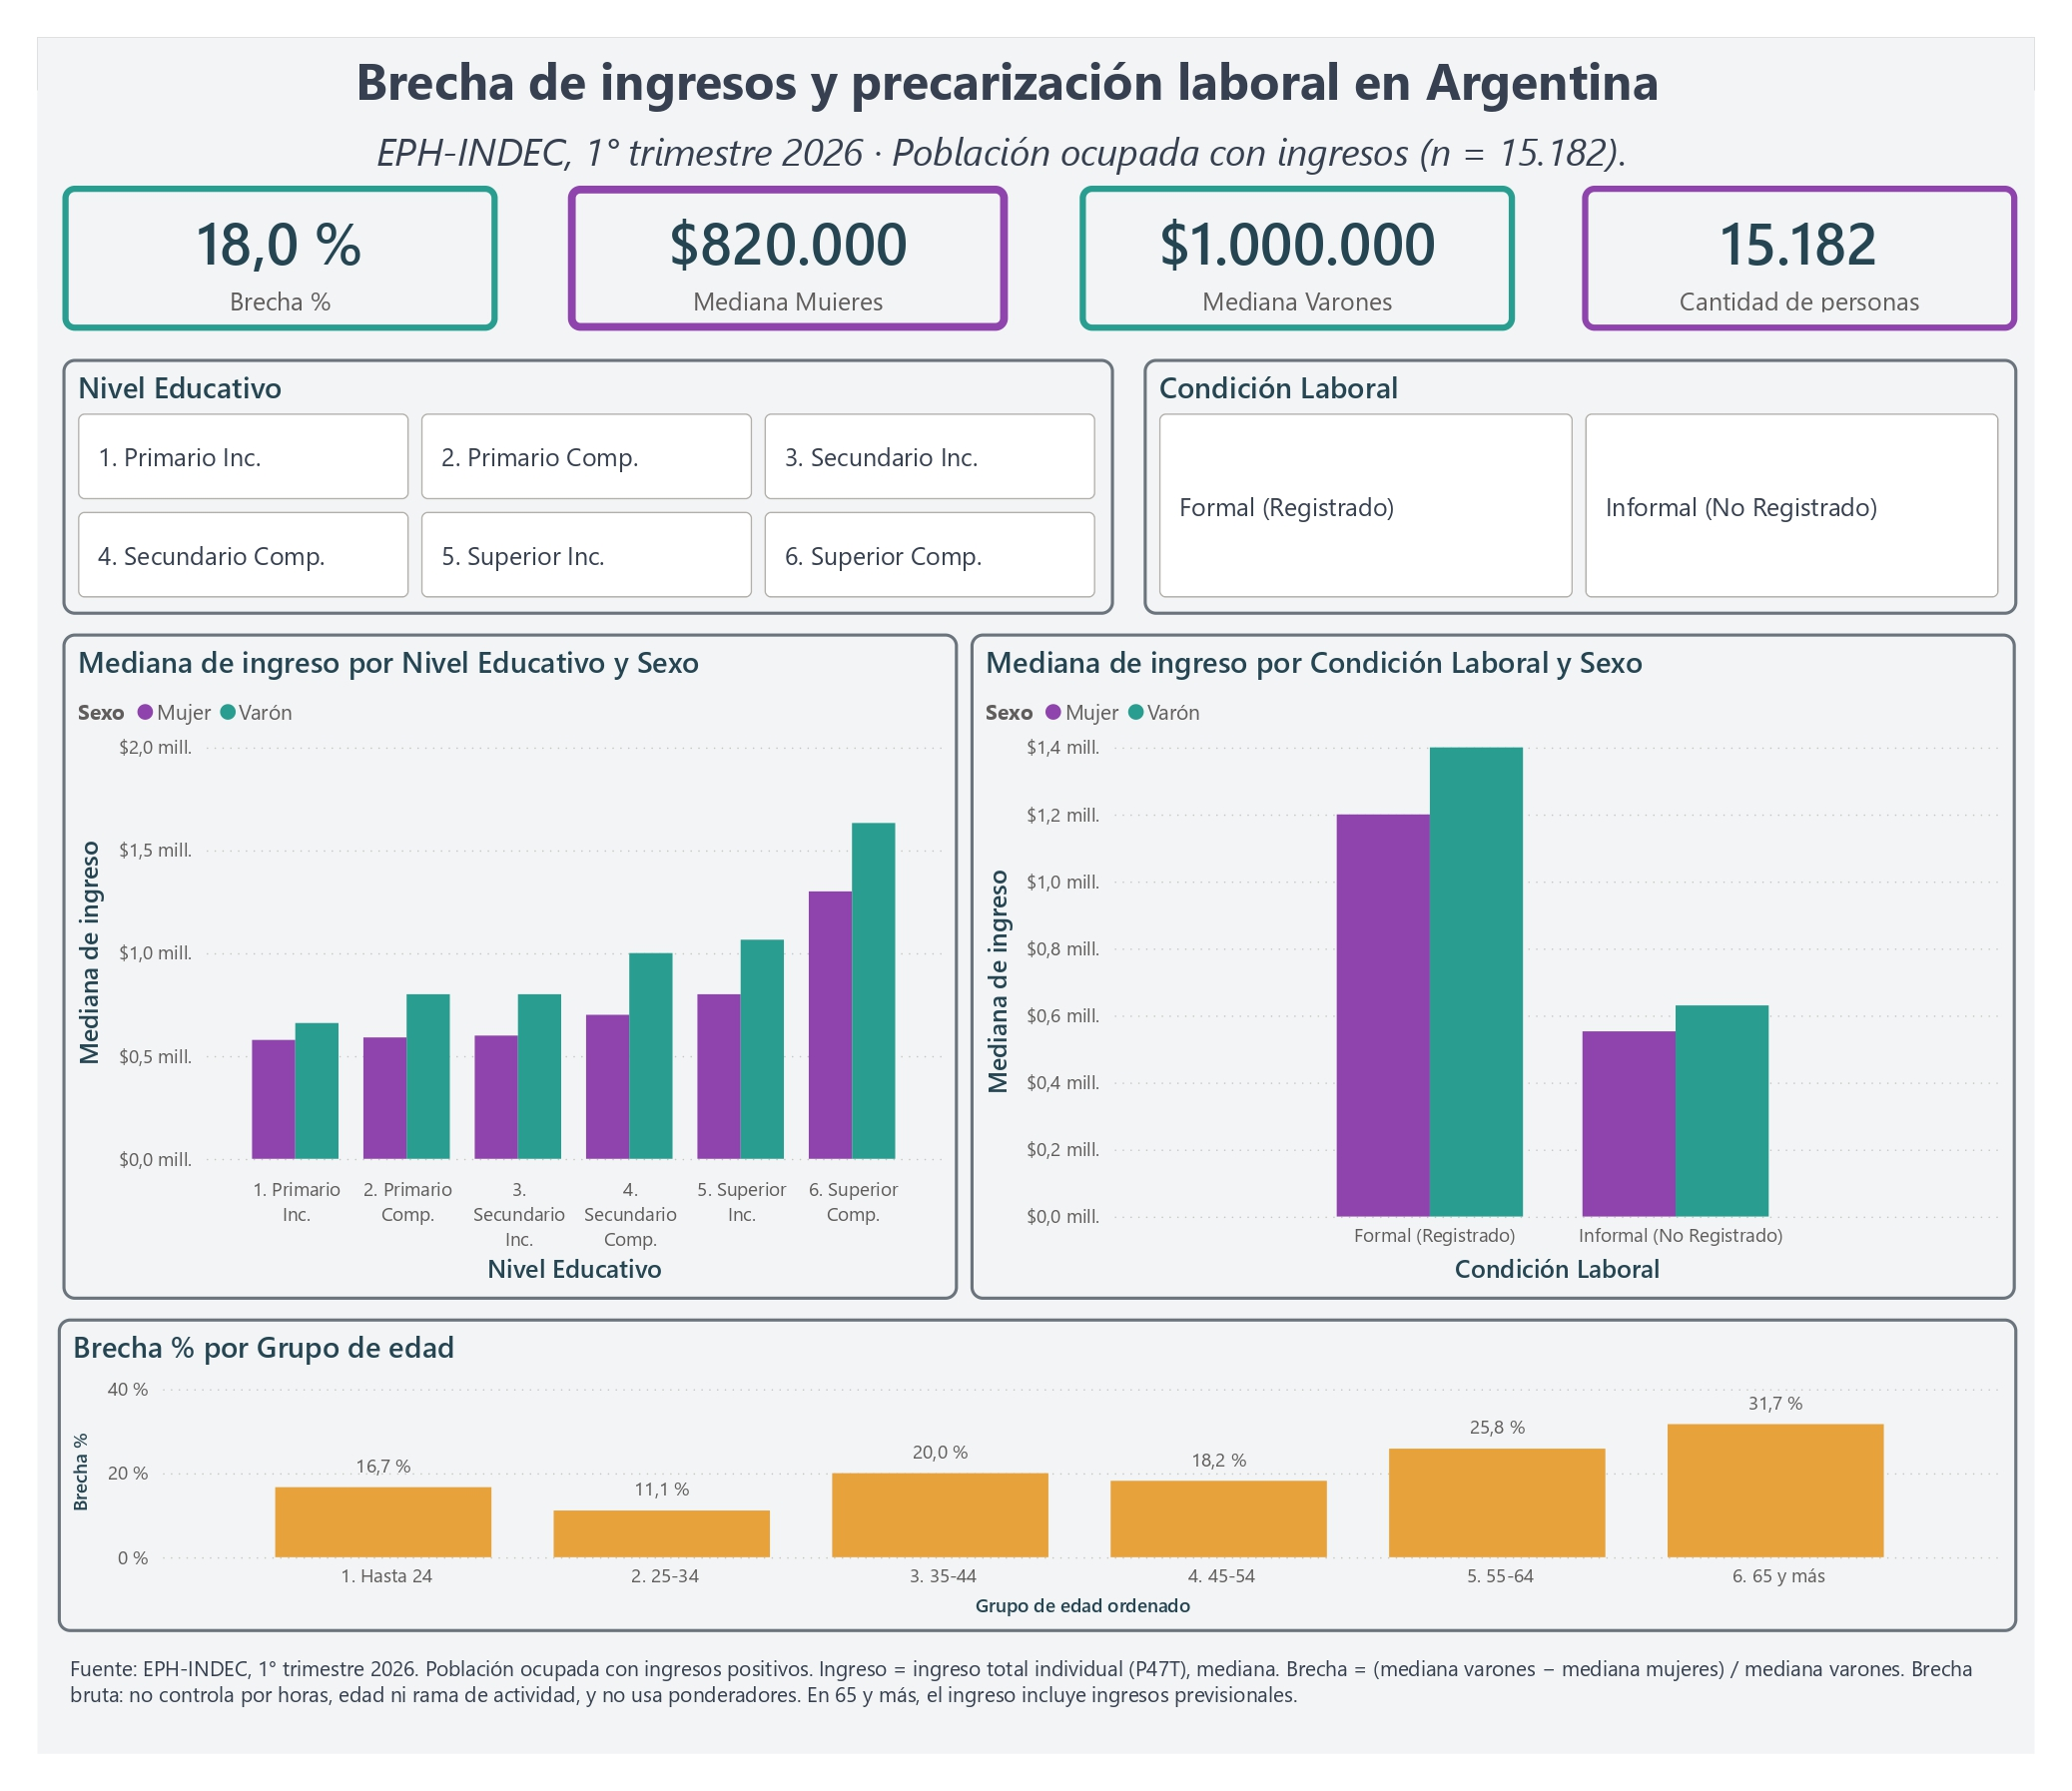

The dashboard page shown, as its layout file describes it:
{"tool":"powerbi","page":{"name":"Página 1","canvas":[1280,1100],"ordinal":0},"visuals":[{"type":"card","fields":{"Values":["EPH.Brecha %"]},"box":[15.6,94.8,279.2,93.5],"z":0},{"type":"card","fields":{"Values":["EPH.Mediana Mujeres"]},"box":[340.3,94.8,281.8,93.5],"z":1000},{"type":"card","fields":{"Values":["EPH.Mediana Varones"]},"box":[667.5,94.8,279.2,93.5],"z":2000},{"type":"card","fields":{"Values":["EPH.Cantidad de personas"]},"box":[989.6,94.8,279.2,93.5],"z":3000},{"type":"textbox","box":[187,0,868.8,64.9],"z":4000},{"type":"textbox","box":[211.7,50.6,855.8,53.2],"z":5000},{"type":"clusteredColumnChart","fields":{"Category":["EPH.Nivel Educativo"],"Y":["EPH.Mediana de ingreso"],"Series":["EPH.Sexo"]},"box":[15.6,381.8,574,427.3],"z":6000},{"type":"clusteredColumnChart","fields":{"Category":["EPH.Condición Laboral"],"Y":["EPH.Mediana de ingreso"],"Series":["EPH.Sexo"]},"box":[598.5,382,669.7,427.3],"z":7000},{"type":"clusteredColumnChart","title":"Brecha % por Grupo de edad ","fields":{"Y":["EPH.Brecha %"],"Category":["EPH.Grupo de edad ordenado"]},"box":[13,820.8,1255.8,201.3],"z":8000},{"type":"advancedSlicerVisual","fields":{"Values":["EPH.Nivel Educativo"]},"box":[15.6,206.5,674,163.6],"z":9000},{"type":"advancedSlicerVisual","fields":{"Values":["EPH.Condición Laboral"]},"box":[709.1,206.5,559.7,163.6],"z":10000},{"type":"textbox","box":[15.6,1031.2,1253.2,55.8],"z":11000}]}

Visuals, with their boxes in screenshot pixels (x1, y1, x2, y2):
card - EPH.Brecha %: (x1=78, y1=184, x2=508, y2=327)
card - EPH.Mediana Mujeres: (x1=578, y1=184, x2=1012, y2=327)
card - EPH.Mediana Varones: (x1=1081, y1=184, x2=1512, y2=327)
card - EPH.Cantidad de personas: (x1=1578, y1=184, x2=2008, y2=327)
textbox: (x1=342, y1=38, x2=1680, y2=138)
textbox: (x1=379, y1=116, x2=1698, y2=198)
clusteredColumnChart - EPH.Nivel Educativo x EPH.Mediana de ingreso: (x1=78, y1=626, x2=962, y2=1283)
clusteredColumnChart - EPH.Condición Laboral x EPH.Mediana de ingreso: (x1=976, y1=626, x2=2007, y2=1284)
"Brecha % por Grupo de edad " clusteredColumnChart: (x1=74, y1=1302, x2=2008, y2=1611)
advancedSlicerVisual - EPH.Nivel Educativo: (x1=78, y1=355, x2=1115, y2=608)
advancedSlicerVisual - EPH.Condición Laboral: (x1=1145, y1=355, x2=2008, y2=608)
textbox: (x1=78, y1=1625, x2=2008, y2=1711)
